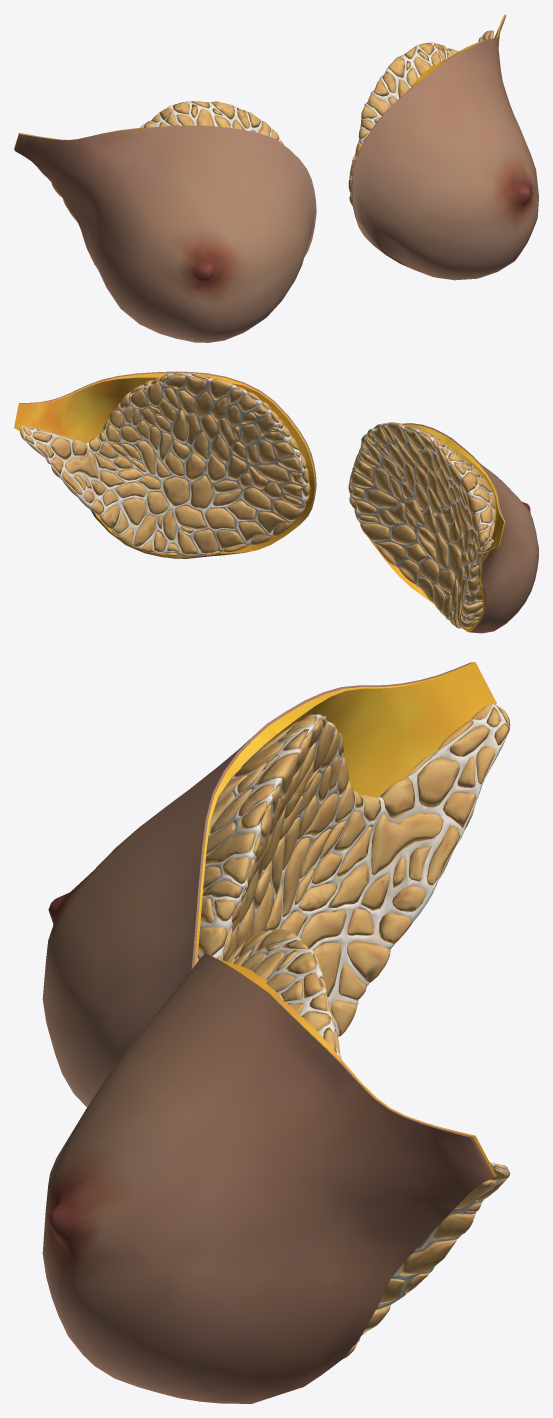
Rendered from breast_cancer.glb.
The picture shows the model from 3 angles, top to bottom: view 1: azimuth 30°, elevation 25°; view 2: azimuth 150°, elevation 25°; view 3: azimuth 270°, elevation 25°; orthographic projection. The views are drawn at different scales.
Visible parts, largest first — view 1: Skin (Superior Lateral Quadrant of Breast; Right [S01654], Skin (Superior Medial Quadrant of Breast; Left) [S01660], Skin (Superior Medial Quadrant of Breast; Right) [S01694], Skin (Inferior Medial Quadrant of Breast; Left) [S01688], Skin (Inferior Medial Quadrant of Breast; Right) [S01690], Skin (Inferior Lateral Quadrant of Breast; Right [S01710], Skin (Superior Lateral Quadrant of Breast; Left) [S01681], Adipose Tissue of Breast (Superior Medial Quadra [S01639], Adipose Tissue of Breast (Superior Medial Quadra [S01770], Areola (Right) [S01699], Areola (Left) [S01661], Suspensory Ligaments of Breast (Superior Medial [S01638] (+3 smaller); view 2: Adipose Tissue of Breast (Superior Medial Quadra [S01639], Adipose Tissue of Breast (Superior Lateral Quadr [S01652], Adipose Tissue of Breast (Inferior Medial Quadra [S01637], Adipose Tissue of Breast (Superior Medial Quadra [S01770], Adipose Tissue of Breast (Inferior Lateral Quadr [S01636], Adipose Tissue of Breast (Inferior Medial Quadra [S01772], Subcutaneous Tissue (Superior Lateral Quadrant o [S01748], Adipose Tissue of Breast (Superior Lateral Quadr [S01771], Suspensory Ligaments of Breast (Superior Medial [S01638], Skin (Superior Lateral Quadrant of Breast; Right [S01654], Suspensory Ligaments of Breast (Superior Lateral [S01634], Skin (Inferior Lateral Quadrant of Breast; Right [S01710] (+11 smaller); view 3: Skin (Superior Lateral Quadrant of Breast; Left) [S01681], Skin (Inferior Lateral Quadrant of Breast; Left) [S01696], Skin (Superior Medial Quadrant of Breast; Right) [S01694], Adipose Tissue of Breast (Superior Lateral Quadr [S01771], Skin (Superior Medial Quadrant of Breast; Left) [S01660], Subcutaneous Tissue (Superior Lateral Quadrant o [S01729], Adipose Tissue of Breast (Superior Medial Quadra [S01770], Adipose Tissue of Breast (Inferior Lateral Quadr [S01769], Skin (Inferior Medial Quadrant of Breast; Right) [S01690], Suspensory Ligaments of Breast (Superior Lateral [S01768], Adipose Tissue of Breast (Superior Lateral Quadr [S01652], Areola (Left) [S01661] (+9 smaller).
Part boxes in pixels (x1=…): Skin (Superior Lateral Quadrant of Breast; Right [S01654]: x1=14, y1=125, x2=201, y2=273; Skin (Superior Medial Quadrant of Breast; Left) [S01660]: x1=352, y1=58, x2=512, y2=208; Skin (Superior Medial Quadrant of Breast; Right) [S01694]: x1=176, y1=125, x2=316, y2=267; Skin (Inferior Medial Quadrant of Breast; Left) [S01688]: x1=352, y1=201, x2=526, y2=280; Skin (Inferior Medial Quadrant of Breast; Right) [S01690]: x1=195, y1=213, x2=316, y2=342; Skin (Inferior Lateral Quadrant of Breast; Right [S01710]: x1=81, y1=230, x2=203, y2=342; Skin (Superior Lateral Quadrant of Breast; Left) [S01681]: x1=450, y1=15, x2=536, y2=185; Adipose Tissue of Breast (Superior Medial Quadra [S01639]: x1=348, y1=43, x2=445, y2=202; Adipose Tissue of Breast (Superior Medial Quadra [S01770]: x1=169, y1=101, x2=283, y2=144; Areola (Right) [S01699]: x1=177, y1=243, x2=230, y2=292; Areola (Left) [S01661]: x1=503, y1=166, x2=534, y2=216; Suspensory Ligaments of Breast (Superior Medial [S01638]: x1=349, y1=42, x2=442, y2=194; Adipose Tissue of Breast (Superior Medial Quadra [S01639]: x1=167, y1=372, x2=310, y2=491; Adipose Tissue of Breast (Superior Lateral Quadr [S01652]: x1=20, y1=373, x2=179, y2=491; Adipose Tissue of Breast (Inferior Medial Quadra [S01637]: x1=180, y1=473, x2=309, y2=556; Adipose Tissue of Breast (Superior Medial Quadra [S01770]: x1=348, y1=422, x2=461, y2=538; Adipose Tissue of Breast (Inferior Lateral Quadr [S01636]: x1=71, y1=473, x2=185, y2=556; Adipose Tissue of Breast (Inferior Medial Quadra [S01772]: x1=350, y1=502, x2=452, y2=619; Subcutaneous Tissue (Superior Lateral Quadrant o [S01748]: x1=14, y1=372, x2=174, y2=442; Adipose Tissue of Breast (Superior Lateral Quadr [S01771]: x1=432, y1=438, x2=495, y2=588; Suspensory Ligaments of Breast (Superior Medial [S01638]: x1=167, y1=373, x2=308, y2=489; Skin (Superior Lateral Quadrant of Breast; Right [S01654]: x1=451, y1=438, x2=536, y2=587; Suspensory Ligaments of Breast (Superior Lateral [S01634]: x1=20, y1=374, x2=179, y2=492; Skin (Inferior Lateral Quadrant of Breast; Right [S01710]: x1=463, y1=534, x2=538, y2=633; Skin (Superior Lateral Quadrant of Breast; Left) [S01681]: x1=93, y1=993, x2=493, y2=1279; Skin (Inferior Lateral Quadrant of Breast; Left) [S01696]: x1=60, y1=1246, x2=390, y2=1403; Skin (Superior Medial Quadrant of Breast; Right) [S01694]: x1=48, y1=724, x2=267, y2=1026; Adipose Tissue of Breast (Superior Lateral Quadr [S01771]: x1=260, y1=704, x2=510, y2=931; Skin (Superior Medial Quadrant of Breast; Left) [S01660]: x1=48, y1=953, x2=267, y2=1198; Subcutaneous Tissue (Superior Lateral Quadrant o [S01729]: x1=267, y1=662, x2=496, y2=797; Adipose Tissue of Breast (Superior Medial Quadra [S01770]: x1=197, y1=714, x2=322, y2=962; Adipose Tissue of Breast (Inferior Lateral Quadr [S01769]: x1=263, y1=873, x2=442, y2=1036; Skin (Inferior Medial Quadrant of Breast; Right) [S01690]: x1=42, y1=941, x2=145, y2=1107; Suspensory Ligaments of Breast (Superior Lateral [S01768]: x1=269, y1=703, x2=509, y2=914; Adipose Tissue of Breast (Superior Lateral Quadr [S01652]: x1=283, y1=974, x2=509, y2=1262; Areola (Left) [S01661]: x1=50, y1=1172, x2=105, y2=1269.
Bounding box in the file's own units: 12.76 × 5.2 × 5.31.
